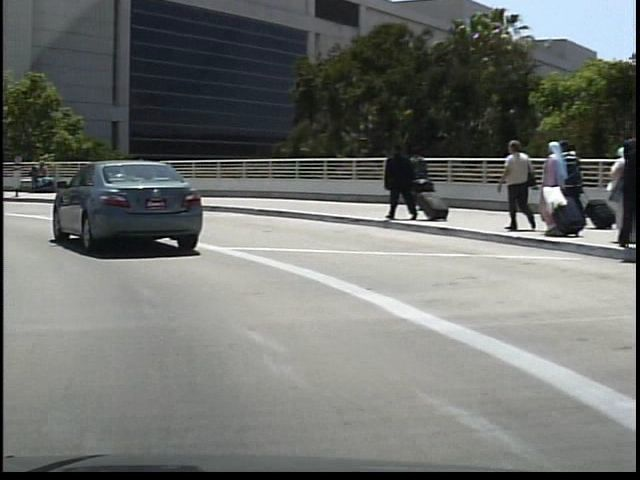person: (491, 133, 534, 235), (606, 119, 637, 250), (377, 139, 415, 223), (405, 145, 430, 213)
